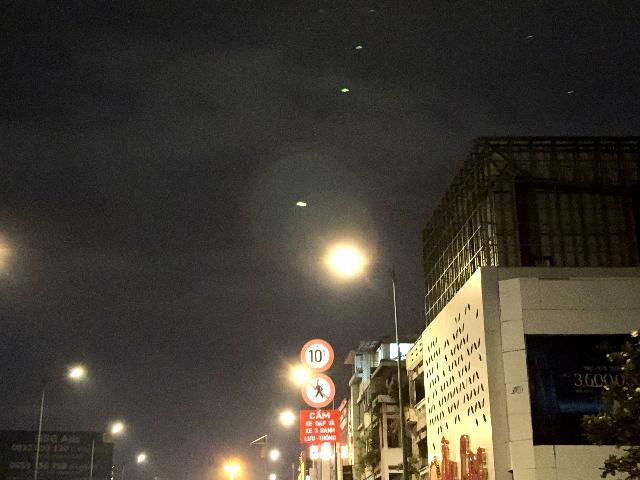cam-nguoi-di-bo: (301, 373, 336, 408)
han-che-trong-luong-xe: (301, 339, 334, 373)
